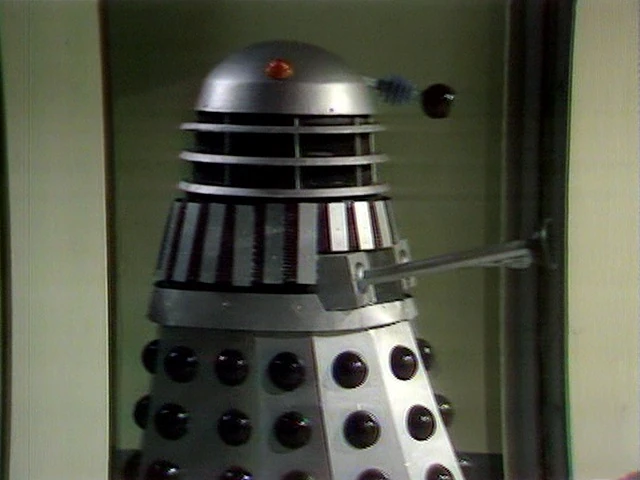Dalek: (136, 27, 479, 480)
